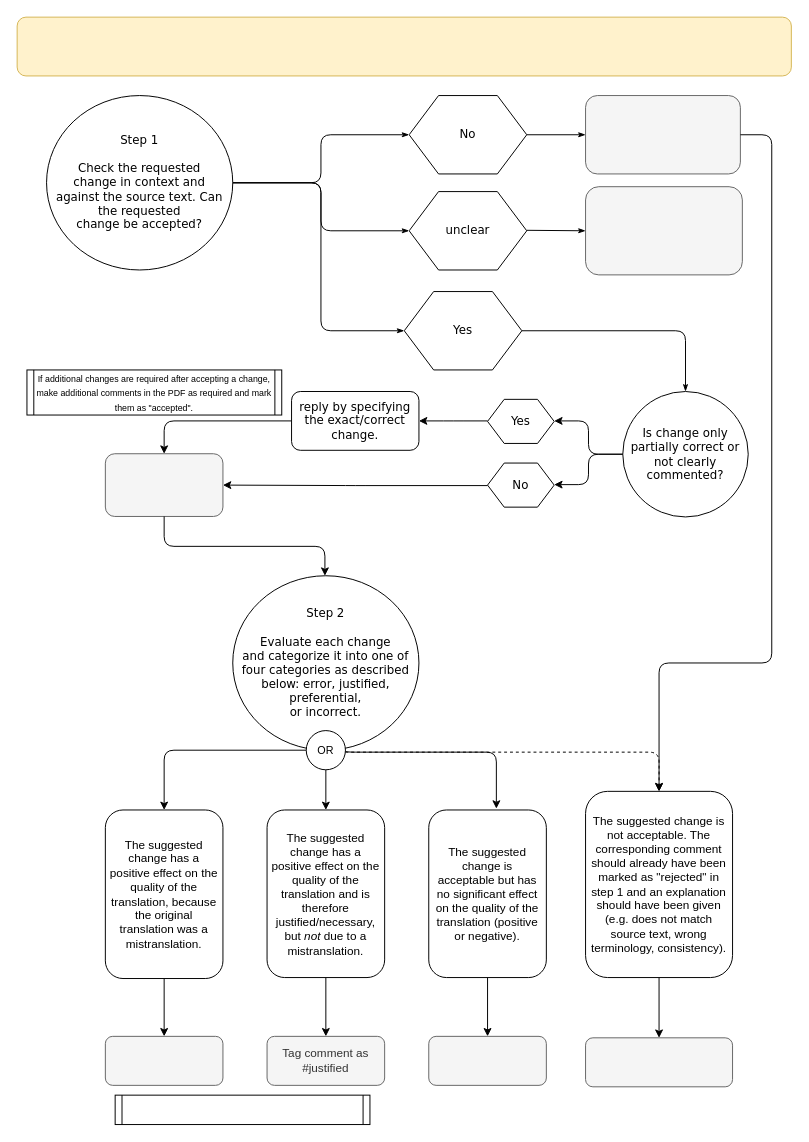
Some shapes in this 809 by 1142 pixel diagram are drawn without their labels. The shapes that lost their labels are listed below. From the top down, each one's centre as x and y in pixels, then its label:
the point at 403,46: In-Country Review Evaluation
the point at 662,134: assign status "rejected"
the point at 663,230: explain the issue or ask for confirmation/details assign status "TBC"
the point at 163,484: assign status "accepted"
the point at 163,1060: Tag comment as #error
the point at 487,1060: Tag comment as #preferential
the point at 659,1062: Tag comment as #incorrect
the point at 242,1109: Provide further details, if necessary.
